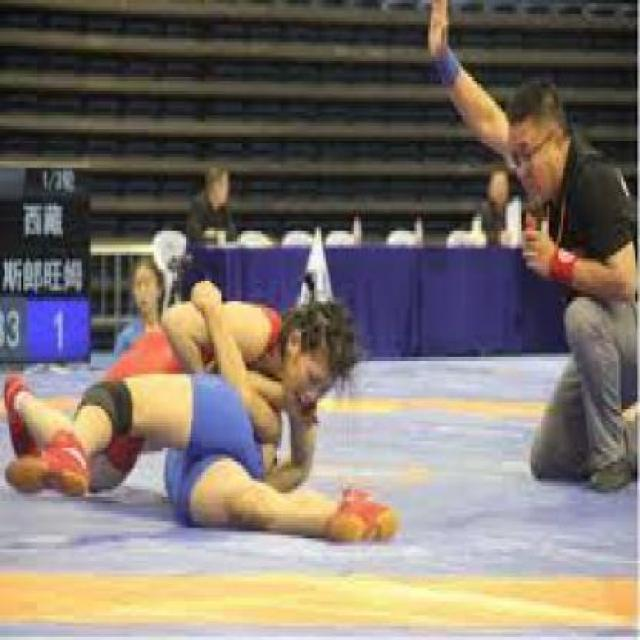fall: (0, 280, 385, 538)
